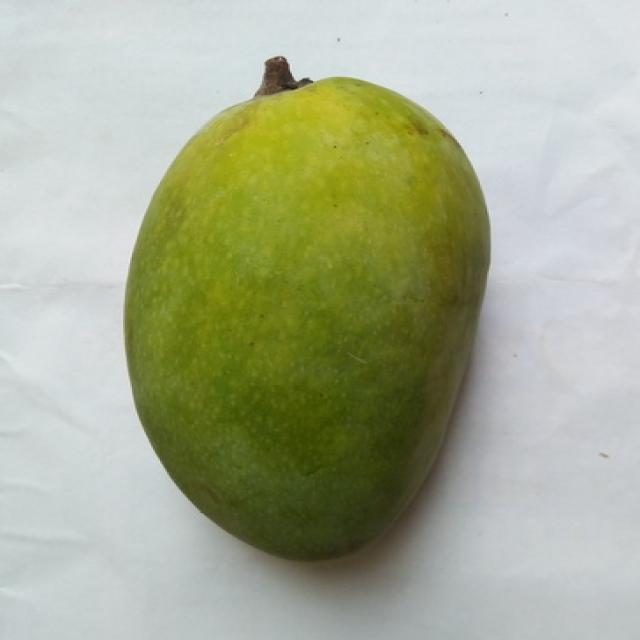Mango: (125, 78, 489, 559)
objects: (121, 55, 492, 562)
